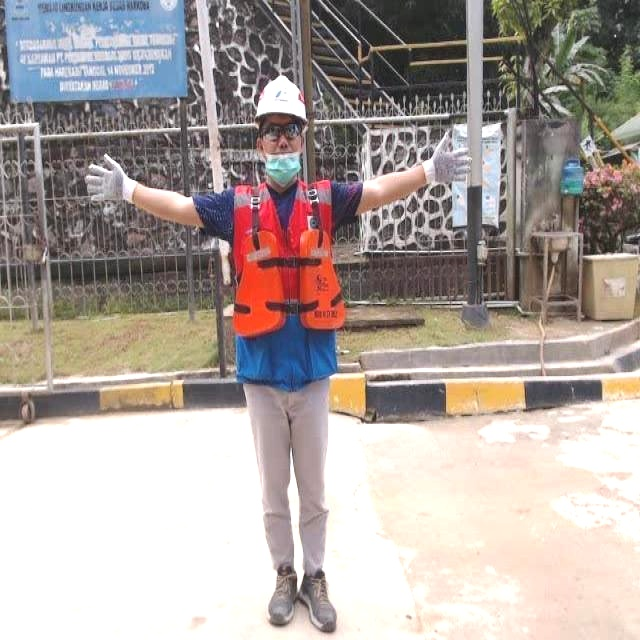boots: (295, 565, 346, 635), (263, 559, 302, 633)
gloves: (74, 135, 145, 228), (418, 128, 484, 202)
helmet: (253, 67, 315, 139)
vest: (227, 176, 357, 347)
